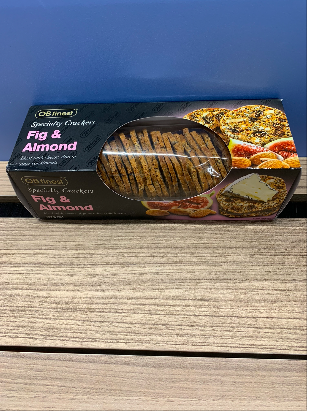Crackers_100-199g: (31, 106, 287, 208)
